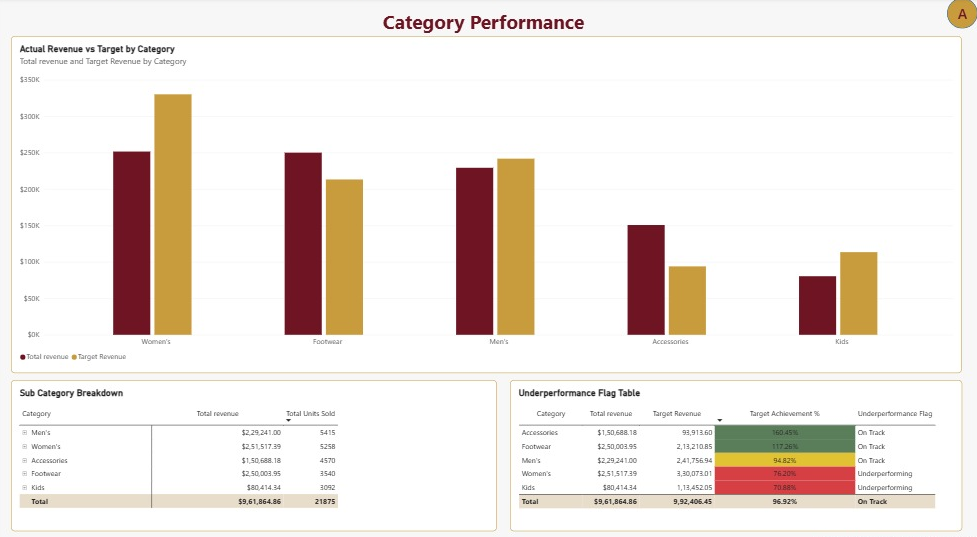

Layout of this report page (visuals, bound fields, positions):
{"tool":"powerbi","page":{"name":"Category Performance","canvas":[1920,1080],"ordinal":1},"visuals":[{"type":"textbox","title":"Category Performance","box":[39.3,0,1820.3,74.6],"z":0},{"type":"clusteredColumnChart","title":"Actual Revenue vs Target by Category","fields":{"Category":["Dim_Category.Category"],"Y":["_Measures.Total revenue","_Measures.Target Revenue"]},"box":[21.6,74.6,1867.4,661.7],"z":4000},{"type":"pivotTable","title":"Sub Category Breakdown","fields":{"Rows":["Dim_Product.Category","Dim_Product.SubCategory"],"Values":["_Measures.Total revenue","_Measures.Total Units Sold"]},"box":[21.6,750.1,954.3,296.5],"z":5000},{"type":"tableEx","title":"Underperformance Flag Table","fields":{"Values":["Dim_Category.Category","_Measures.Total revenue","_Measures.Target Revenue","_Measures.Target Achievement %","_Measures.Underperformance Flag"]},"box":[1001.5,750.1,887.6,296.5],"z":6000},{"type":"shape","box":[1859.8,0,60,60],"z":7000},{"type":"textbox","title":"Designed & developed by Mirza Afzal Baig | Afzalytics","box":[1413.4,1062.3,506.6,17.7],"z":8000}]}

Visuals, with their boxes in screenshot pixels (x1, y1, x2, y2), scaled from the page's 1920x1080 canvas onto the 977x537 screenshot:
"Category Performance" textbox: pyautogui.locateOnScreen(20, 0, 946, 37)
"Actual Revenue vs Target by Category" clusteredColumnChart: pyautogui.locateOnScreen(11, 37, 961, 366)
"Sub Category Breakdown" pivotTable: pyautogui.locateOnScreen(11, 373, 497, 520)
"Underperformance Flag Table" tableEx: pyautogui.locateOnScreen(510, 373, 961, 520)
shape: pyautogui.locateOnScreen(946, 0, 976, 30)
"Designed & developed by Mirza Afzal Baig | Afzalytics" textbox: pyautogui.locateOnScreen(719, 528, 976, 536)
